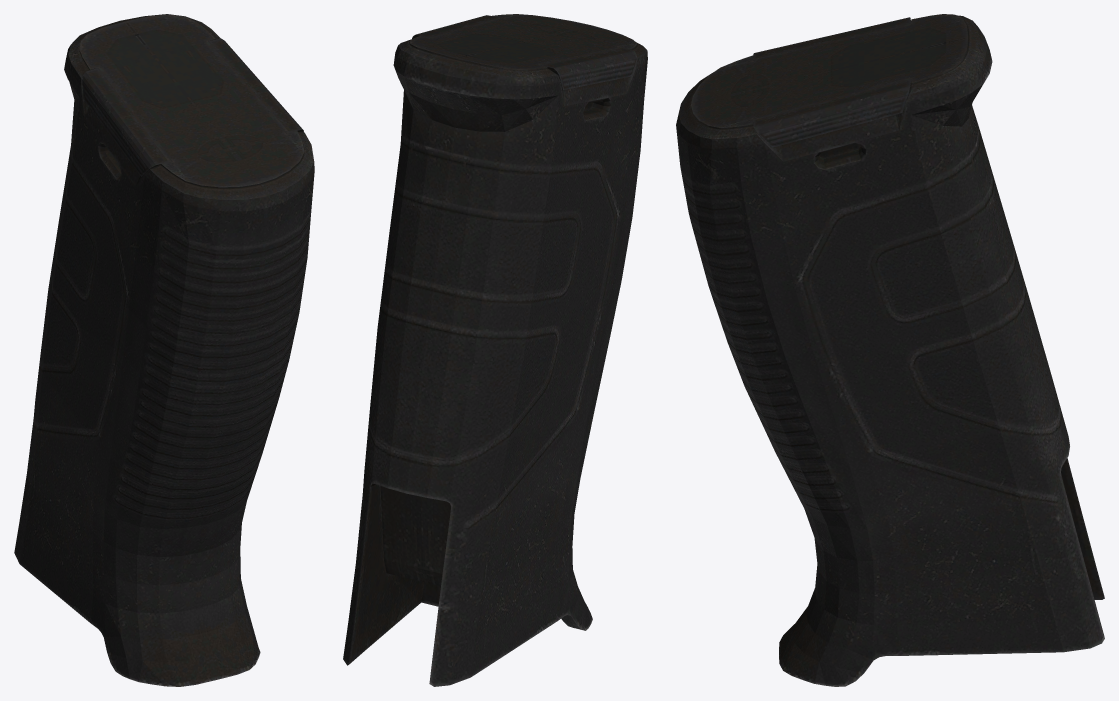
The picture shows the model from 3 angles, left to right: view 1: azimuth 30°, elevation 25°; view 2: azimuth 150°, elevation 25°; view 3: azimuth 270°, elevation 25°; orthographic projection. The views are drawn at different scales.
Visible parts, largest first — view 1: TW_5dcbd6dddbd3d91b3e5468de_PZ_Import; view 2: TW_5dcbd6dddbd3d91b3e5468de_PZ_Import; view 3: TW_5dcbd6dddbd3d91b3e5468de_PZ_Import.
Boxes of the visible parts, x1,y1,x2,y2 form: TW_5dcbd6dddbd3d91b3e5468de_PZ_Import: (14, 14, 314, 686); TW_5dcbd6dddbd3d91b3e5468de_PZ_Import: (343, 14, 647, 686); TW_5dcbd6dddbd3d91b3e5468de_PZ_Import: (676, 14, 1104, 686).
Bounding box in the file's own units: 0.0177 × 0.0399 × 0.0631.
Materials: 1 (1 with a texture image).
